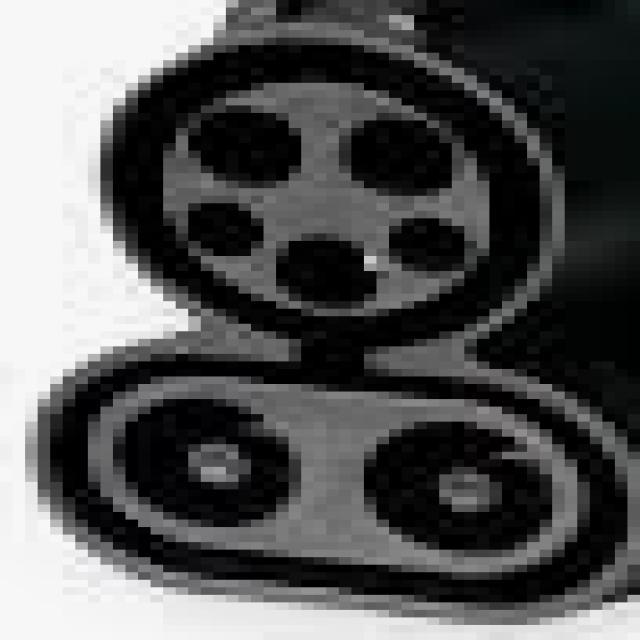CCS1: (16, 49, 608, 627)
